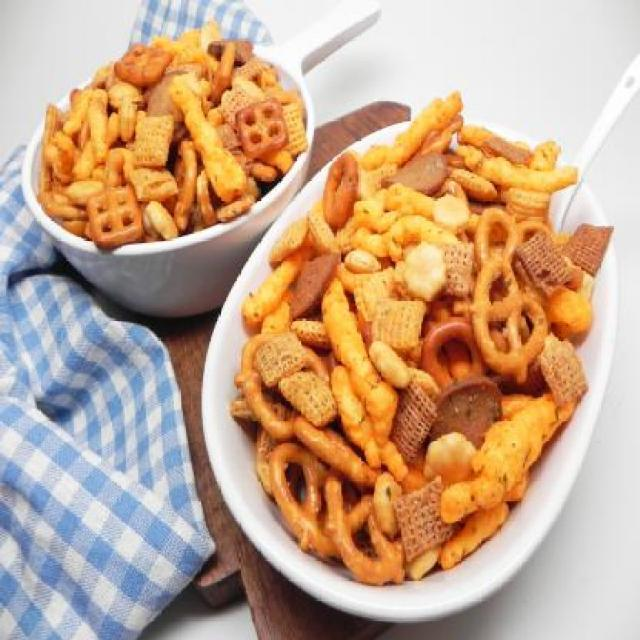Salatini packaged: (202, 100, 630, 594), (29, 32, 306, 246)
